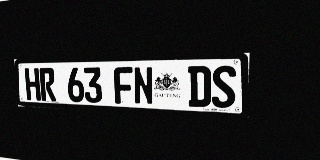3: (83, 67, 102, 103)
6: (67, 67, 85, 102)
D: (188, 66, 211, 107)
F: (114, 67, 134, 104)
H: (24, 68, 41, 101)
N: (133, 67, 154, 105)
R: (39, 68, 56, 101)
S: (212, 65, 236, 108)
